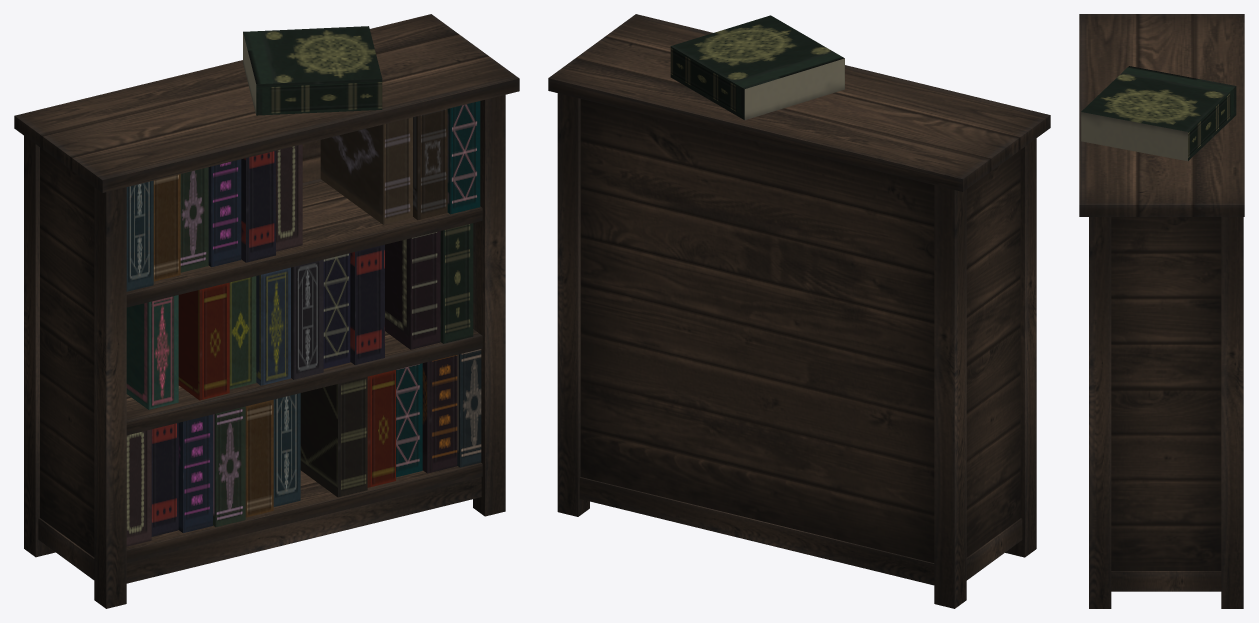
The model's file is bookshelf.glb.
3 renders of one model, left to right at view 1: azimuth 30°, elevation 25°; view 2: azimuth 150°, elevation 25°; view 3: azimuth 270°, elevation 25°, orthographic. The views are drawn at different scales.
Parts seen in each view (by area): view 1: Cube.019_Cube.020; view 2: Cube.019_Cube.020; view 3: Cube.019_Cube.020.
Boxes of the visible parts, x1,y1,x2,y2 form: Cube.019_Cube.020: [14, 14, 519, 608]; Cube.019_Cube.020: [548, 14, 1050, 608]; Cube.019_Cube.020: [1079, 14, 1244, 608].
Size of the model in its own units: 4.1 by 4.39 by 1.5.
Materials: 1 (1 with a texture image).
